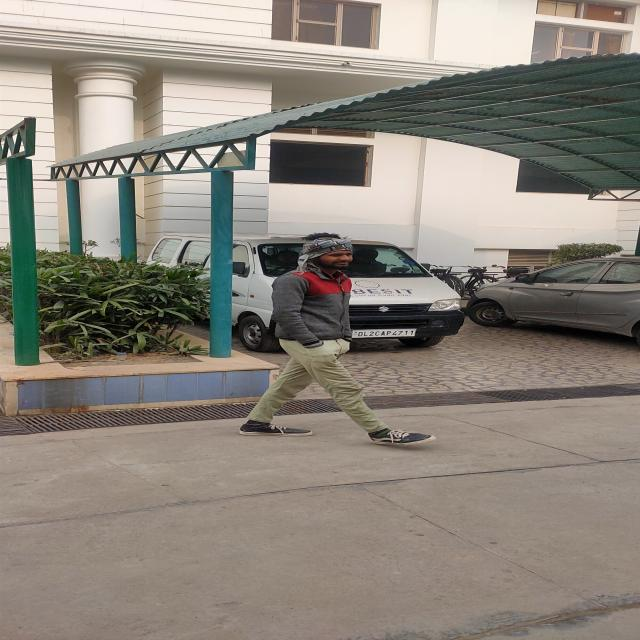unsafe: (270, 231, 360, 444)
